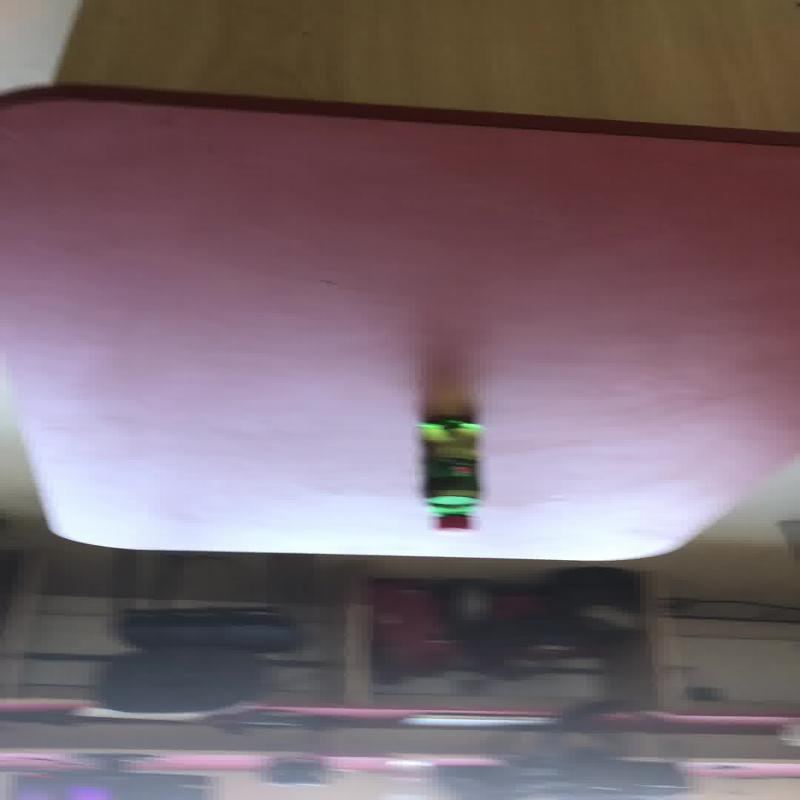guarana: (413, 414, 485, 530)
